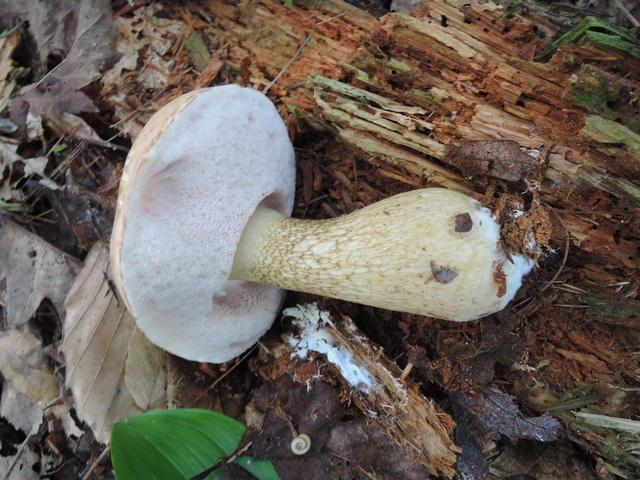poisonous_mushroom: (106, 82, 535, 364)
